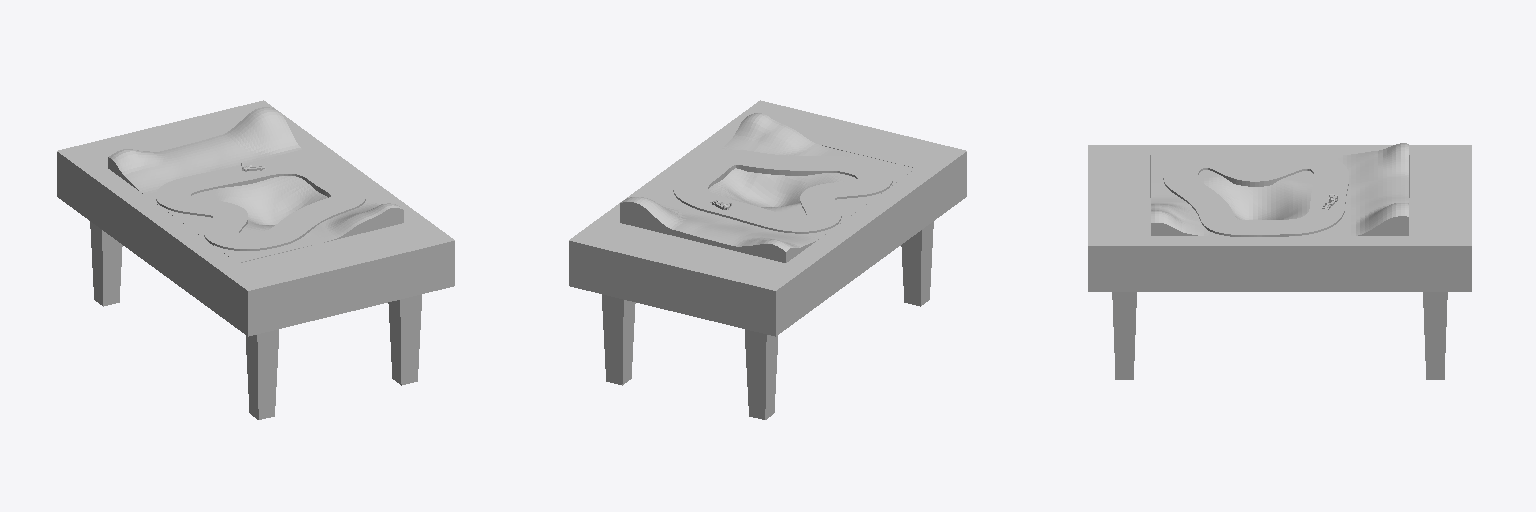
File: NewestTisch7.obj
3 views of the same model, side by side, from view 1: azimuth 30°, elevation 25°; view 2: azimuth 150°, elevation 25°; view 3: azimuth 270°, elevation 25° (orthographic).
Visible parts, largest first — view 1: Tischplatte_wood_table_001, Landschaft_aerial_grass_rock, off, Bein1_wood_table_001, Bein4_wood_table_001.003, Bein3_wood_table_001.002; view 2: Tischplatte_wood_table_001, Landschaft_aerial_grass_rock, off, Bein2_wood_table_001.001, Bein3_wood_table_001.002, Bein4_wood_table_001.003; view 3: Tischplatte_wood_table_001, Landschaft_aerial_grass_rock, off, Bein1_wood_table_001, Bein2_wood_table_001.001.
Part boxes in pixels (x1,y1,x2,y2): Tischplatte_wood_table_001: (57,100,454,336); Landschaft_aerial_grass_rock: (108,107,403,262); off: (156,159,365,250); Bein1_wood_table_001: (388,294,421,385); Bein4_wood_table_001.003: (246,329,278,419); Bein3_wood_table_001.002: (90,221,122,306); Tischplatte_wood_table_001: (569,100,966,336); Landschaft_aerial_grass_rock: (620,113,915,262); off: (673,150,892,233); Bein2_wood_table_001.001: (602,294,635,385); Bein3_wood_table_001.002: (745,329,777,419); Bein4_wood_table_001.003: (901,221,933,306); Tischplatte_wood_table_001: (1088,145,1471,291); Landschaft_aerial_grass_rock: (1151,143,1408,235); off: (1163,153,1348,236); Bein1_wood_table_001: (1112,292,1136,379); Bein2_wood_table_001.001: (1423,292,1447,379).
Bounding box in the file's own units: 5 × 3.91 × 8.